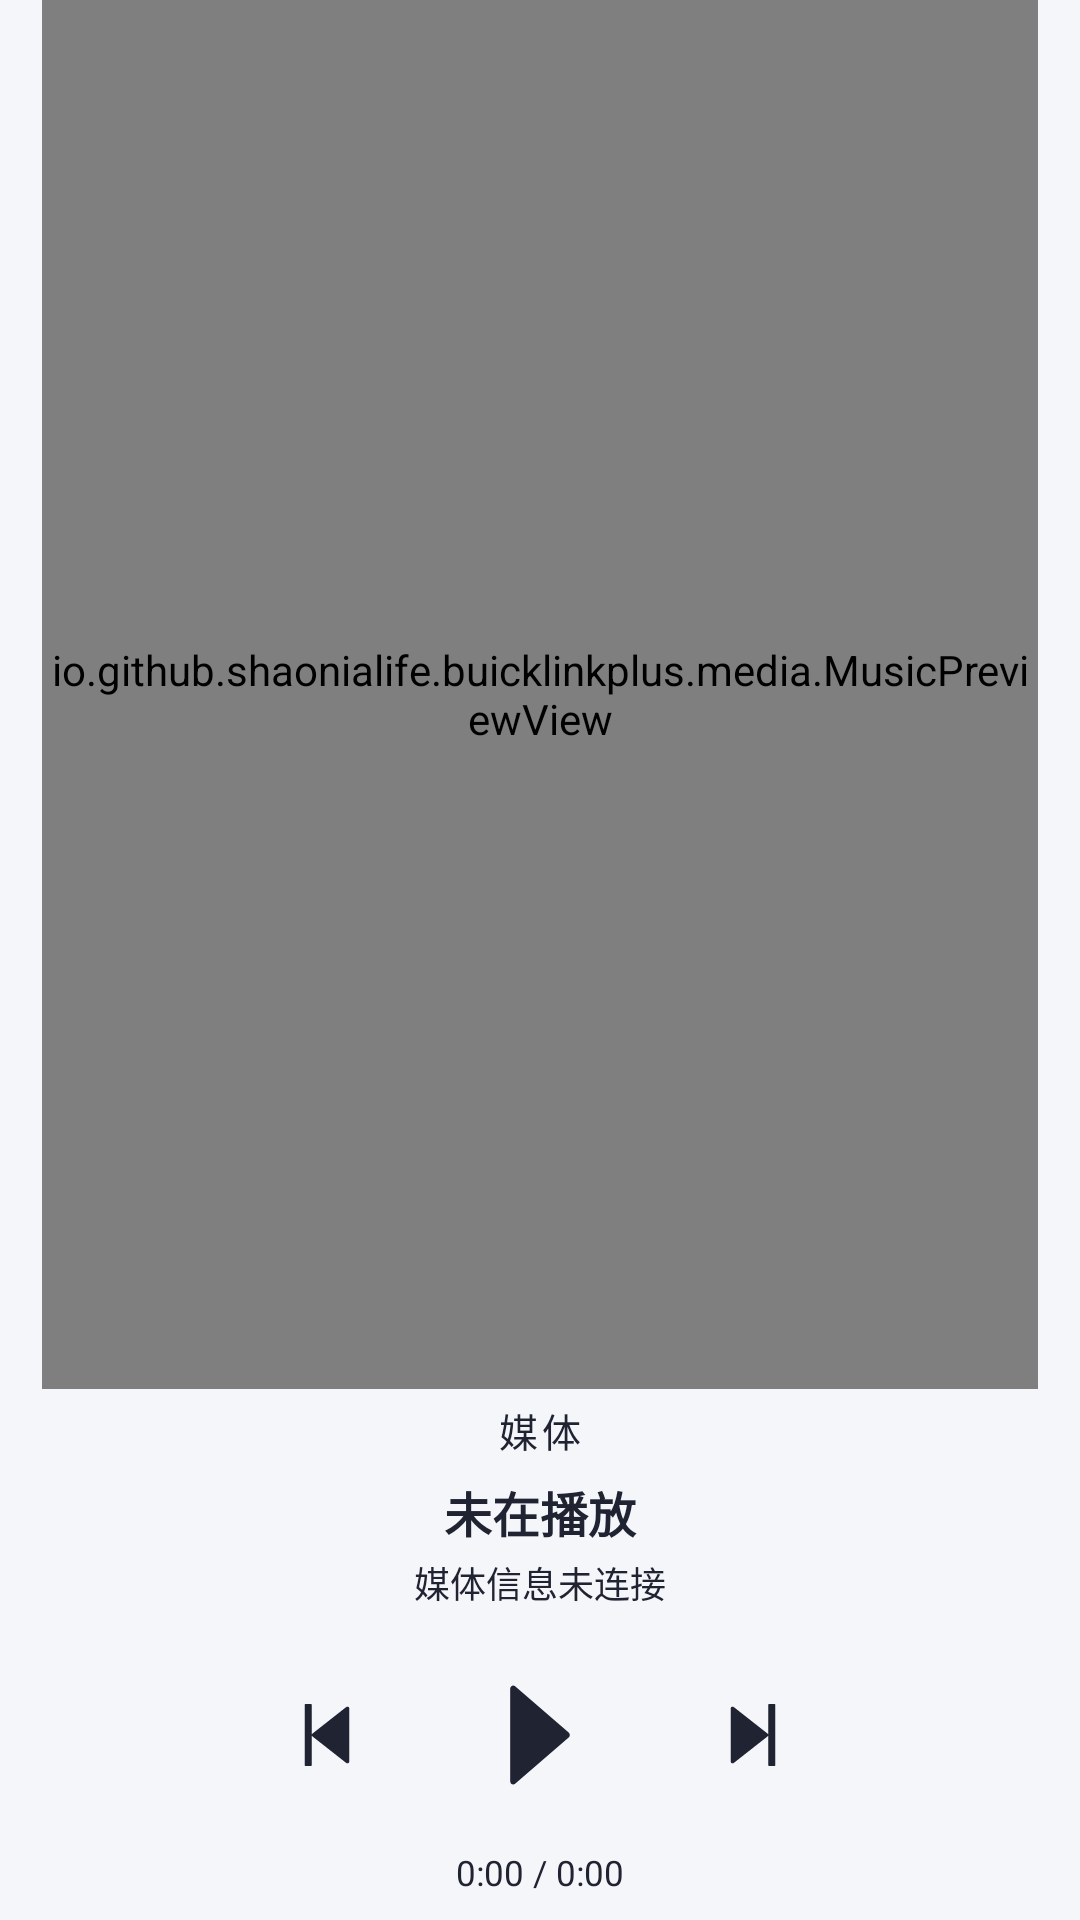

Where icons sit on this 1080x1920 app screen, as (x1, y1, x2, y2):
next: (730, 1704, 776, 1766)
play: (510, 1685, 570, 1785)
prev: (304, 1704, 350, 1766)
